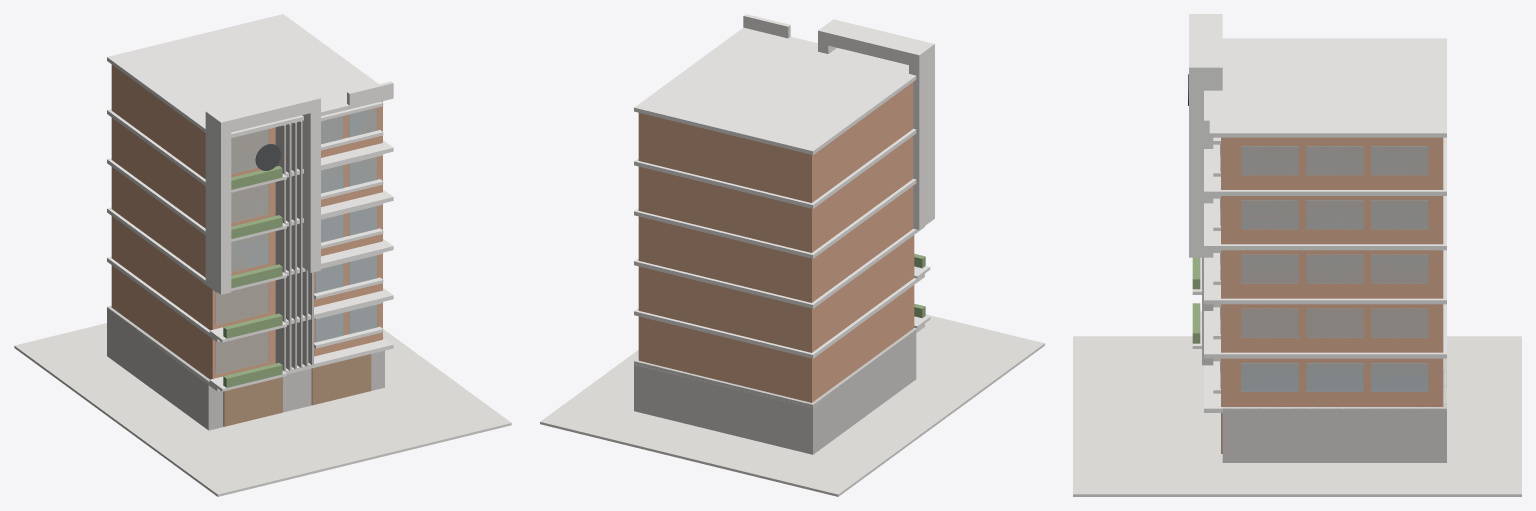
The model's file is ma-residence.glb.
3 views of the same model, side by side, from view 1: azimuth 30°, elevation 25°; view 2: azimuth 150°, elevation 25°; view 3: azimuth 270°, elevation 25° (orthographic). The views are drawn at different scales.
Visible parts, largest first — view 1: site-site, roof-white, floor-1-terracotta, floor-2-terracotta, floor-5-terracotta, floor-4-terracotta, floor-3-terracotta, floor-0-grey, floor-0-timber, floor-1-glass, floor-2-glass, floor-2-white (+18 smaller); view 2: roof-white, site-site, floor-0-grey, floor-5-terracotta, floor-2-terracotta, floor-1-terracotta, floor-4-terracotta, floor-3-terracotta, floor-2-white, floor-3-white, floor-4-white, floor-5-white (+1 smaller); view 3: site-site, roof-white, floor-0-grey, floor-5-terracotta, floor-2-terracotta, floor-3-terracotta, floor-1-terracotta, floor-4-terracotta, floor-5-glass, floor-4-glass, floor-2-glass, floor-3-glass (+6 smaller).
Part boxes in pixels (<box>): site-site: <box>14,323,511,496</box>; roof-white: <box>107,14,393,294</box>; floor-1-terracotta: <box>111,265,382,379</box>; floor-2-terracotta: <box>111,216,382,330</box>; floor-5-terracotta: <box>111,64,382,178</box>; floor-4-terracotta: <box>111,117,382,228</box>; floor-3-terracotta: <box>111,167,382,277</box>; floor-0-grey: <box>107,306,384,430</box>; floor-0-timber: <box>223,354,371,426</box>; floor-1-glass: <box>215,304,377,374</box>; floor-2-glass: <box>215,255,377,325</box>; floor-2-white: <box>107,252,393,342</box>; roof-white: <box>634,14,934,229</box>; site-site: <box>540,314,1044,496</box>; floor-0-grey: <box>634,328,916,454</box>; floor-5-terracotta: <box>638,82,913,202</box>; floor-2-terracotta: <box>638,235,914,352</box>; floor-1-terracotta: <box>638,285,914,402</box>; floor-4-terracotta: <box>638,136,913,252</box>; floor-3-terracotta: <box>638,186,913,302</box>; floor-2-white: <box>634,266,930,358</box>; floor-3-white: <box>634,226,924,308</box>; floor-4-white: <box>634,179,916,258</box>; floor-5-white: <box>634,129,916,208</box>; site-site: <box>1073,336,1521,496</box>; roof-white: <box>1189,14,1446,257</box>; floor-0-grey: <box>1222,358,1446,462</box>; floor-5-terracotta: <box>1221,137,1443,189</box>; floor-2-terracotta: <box>1221,304,1443,352</box>; floor-3-terracotta: <box>1221,250,1443,298</box>; floor-1-terracotta: <box>1221,358,1443,406</box>; floor-4-terracotta: <box>1221,196,1443,244</box>; floor-5-glass: <box>1220,144,1428,175</box>; floor-4-glass: <box>1220,198,1428,229</box>; floor-2-glass: <box>1220,307,1428,337</box>; floor-3-glass: <box>1220,253,1428,283</box>.
Bounding box in the file's own units: 20 × 20.95 × 24.
